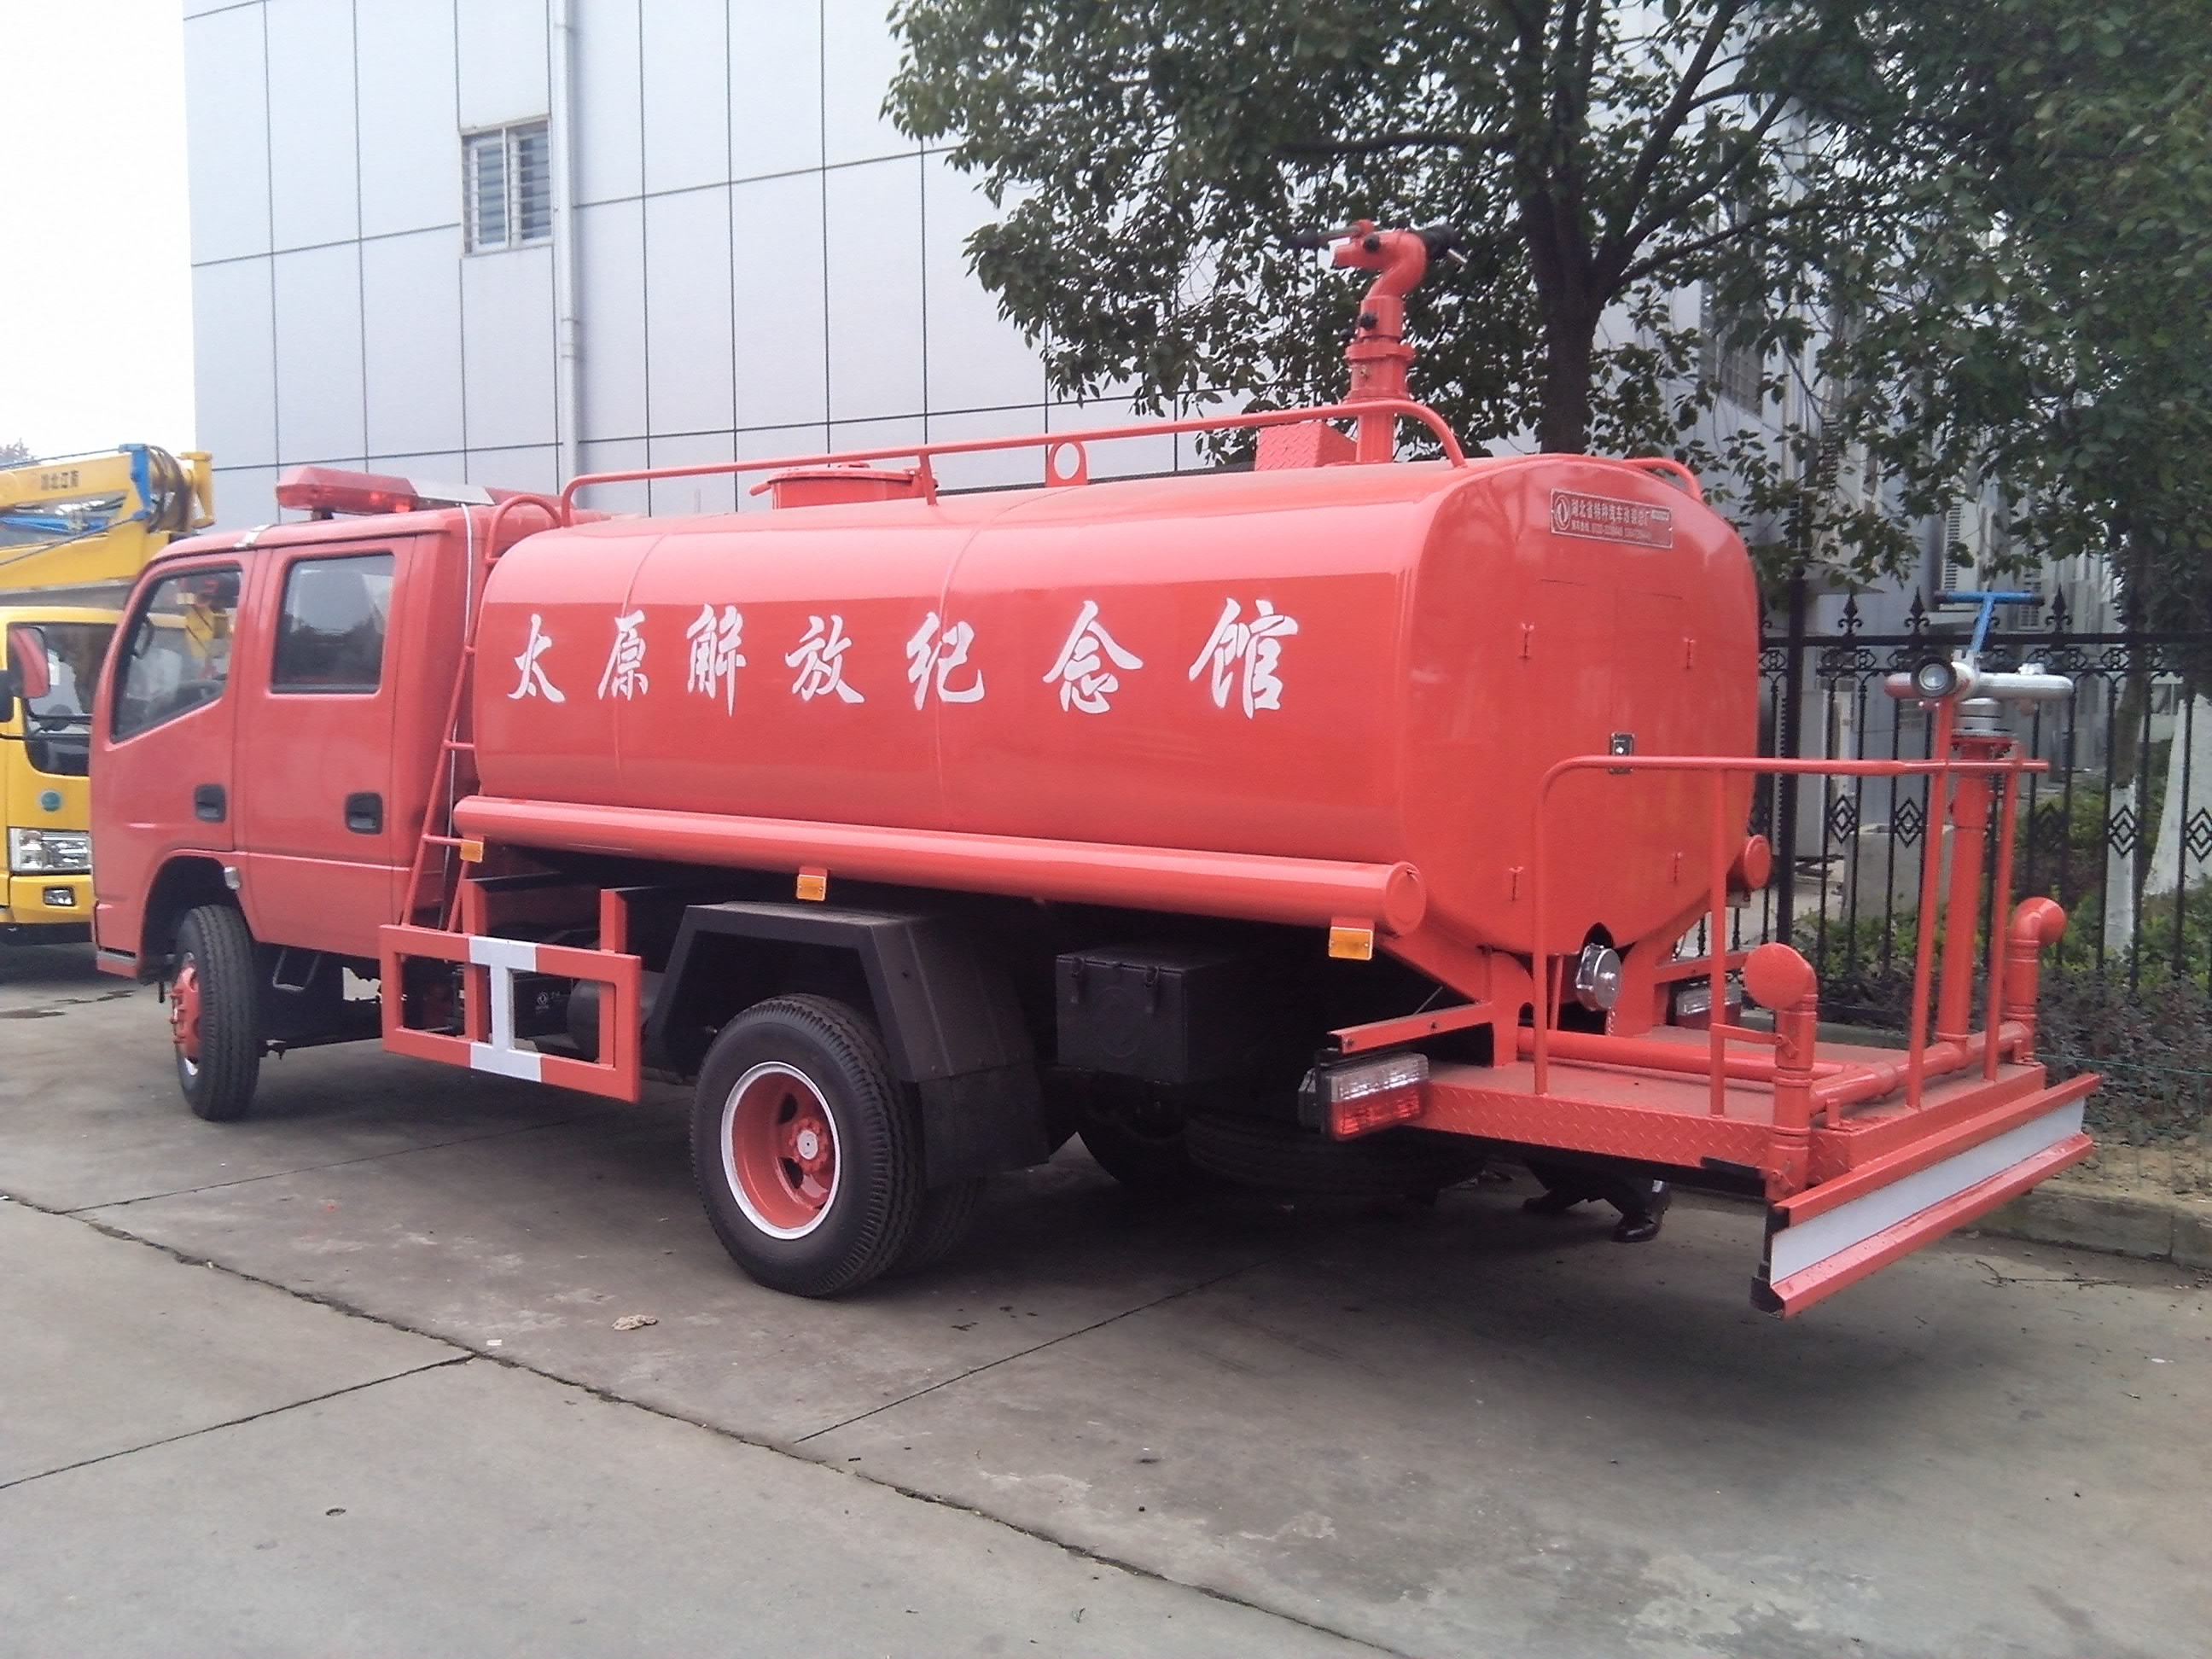fire engine: (70, 333, 2123, 1359)
